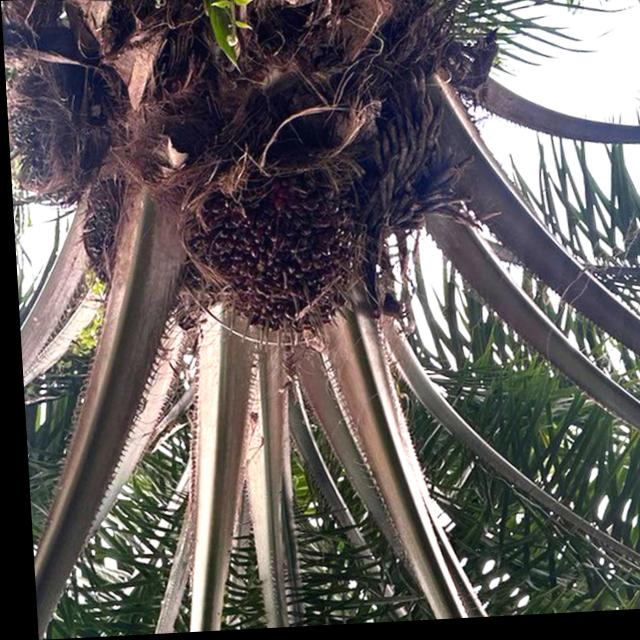ripe: (155, 158, 395, 369)
